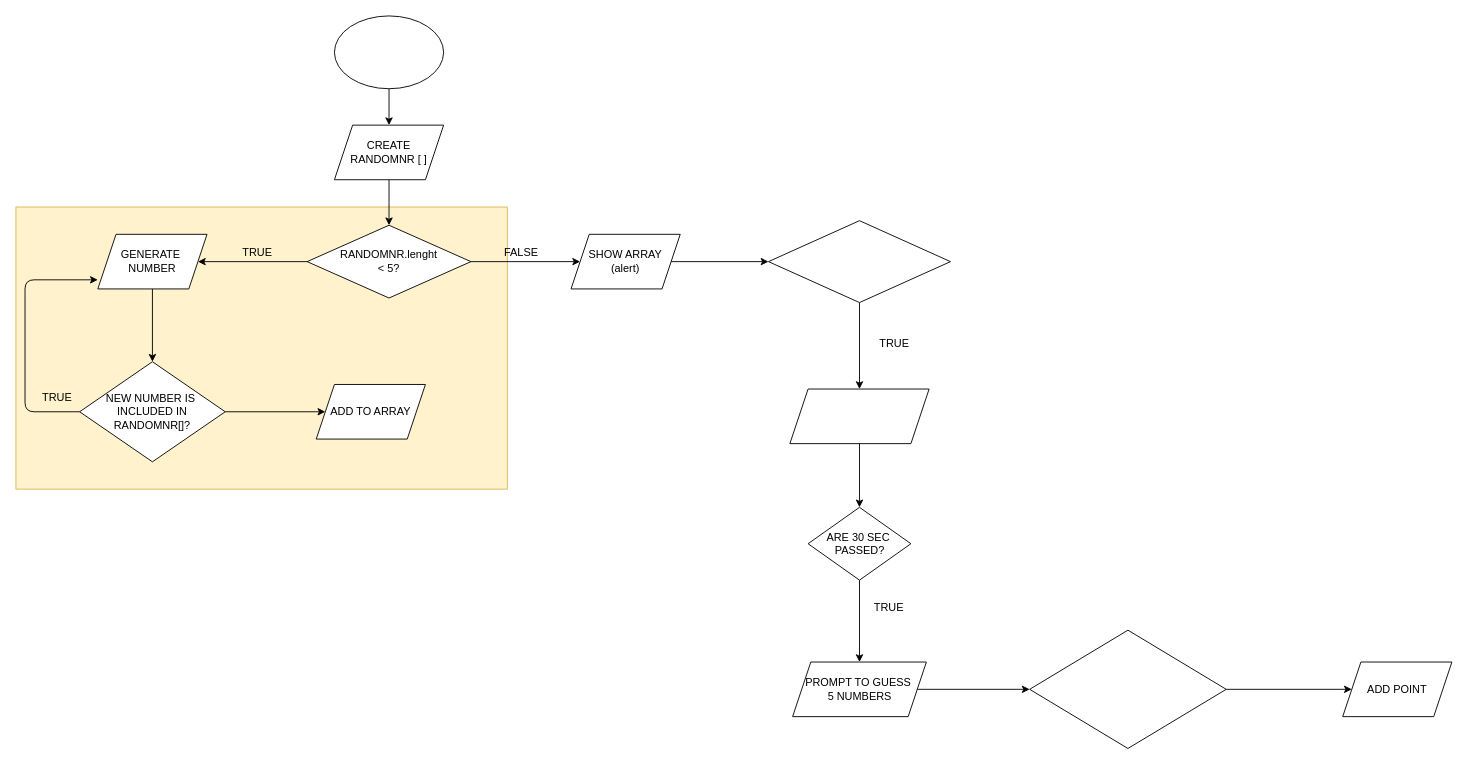
Image size: 1468x764. Some labels were removed from this diagram. Here are the shapes that lost their labels. From the top down, the box of each, then its label:
(334, 15, 444, 89): START
(768, 220, 950, 303): USER HAS CLICKED OK? (EVENT LISTENER)
(789, 388, 929, 444): COUNTER STARTS
(1029, 629, 1226, 748): GUESSED NUMBER [I] IS INCLUDED IN RANDOMNR []?
